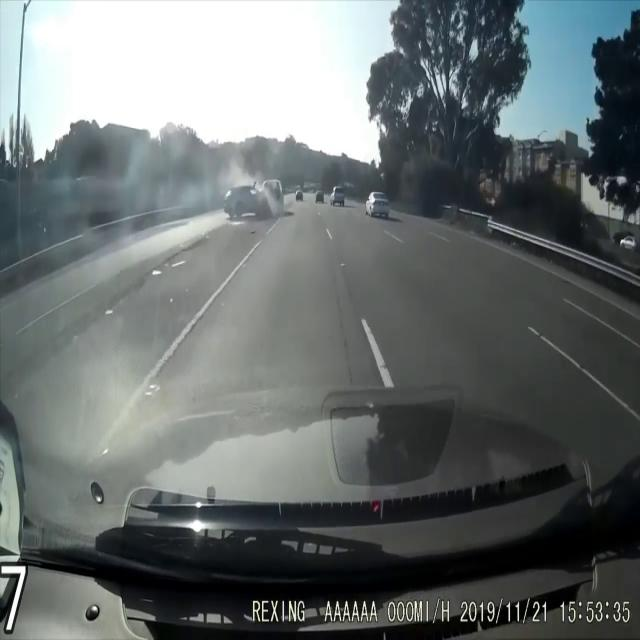accident: (223, 170, 290, 228)
